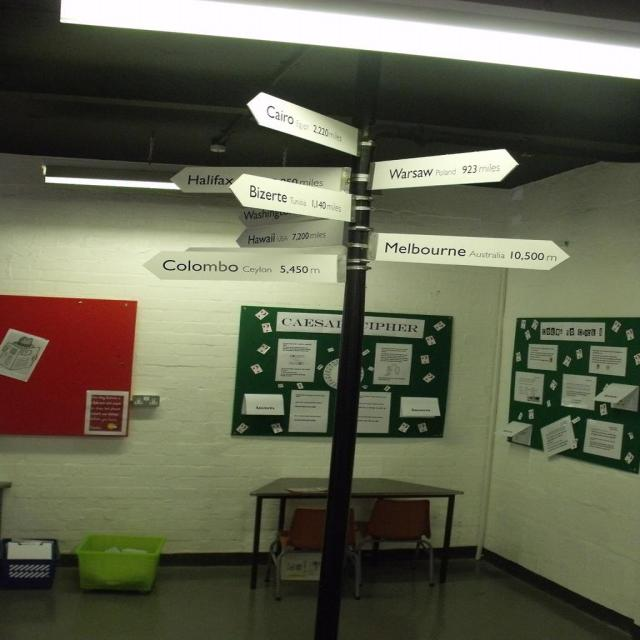table: (264, 485, 464, 593)
